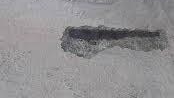Exposed reinforcement: (68, 28, 161, 42)
Spalling: (59, 24, 170, 60)
